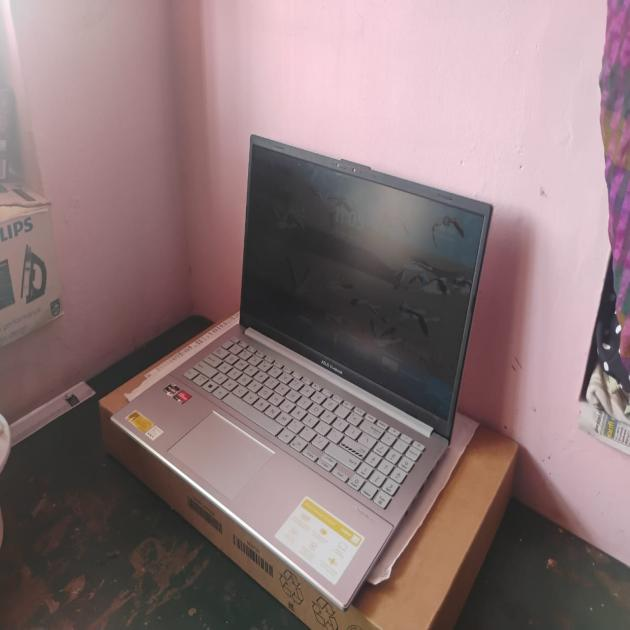laptop: (117, 144, 508, 615)
